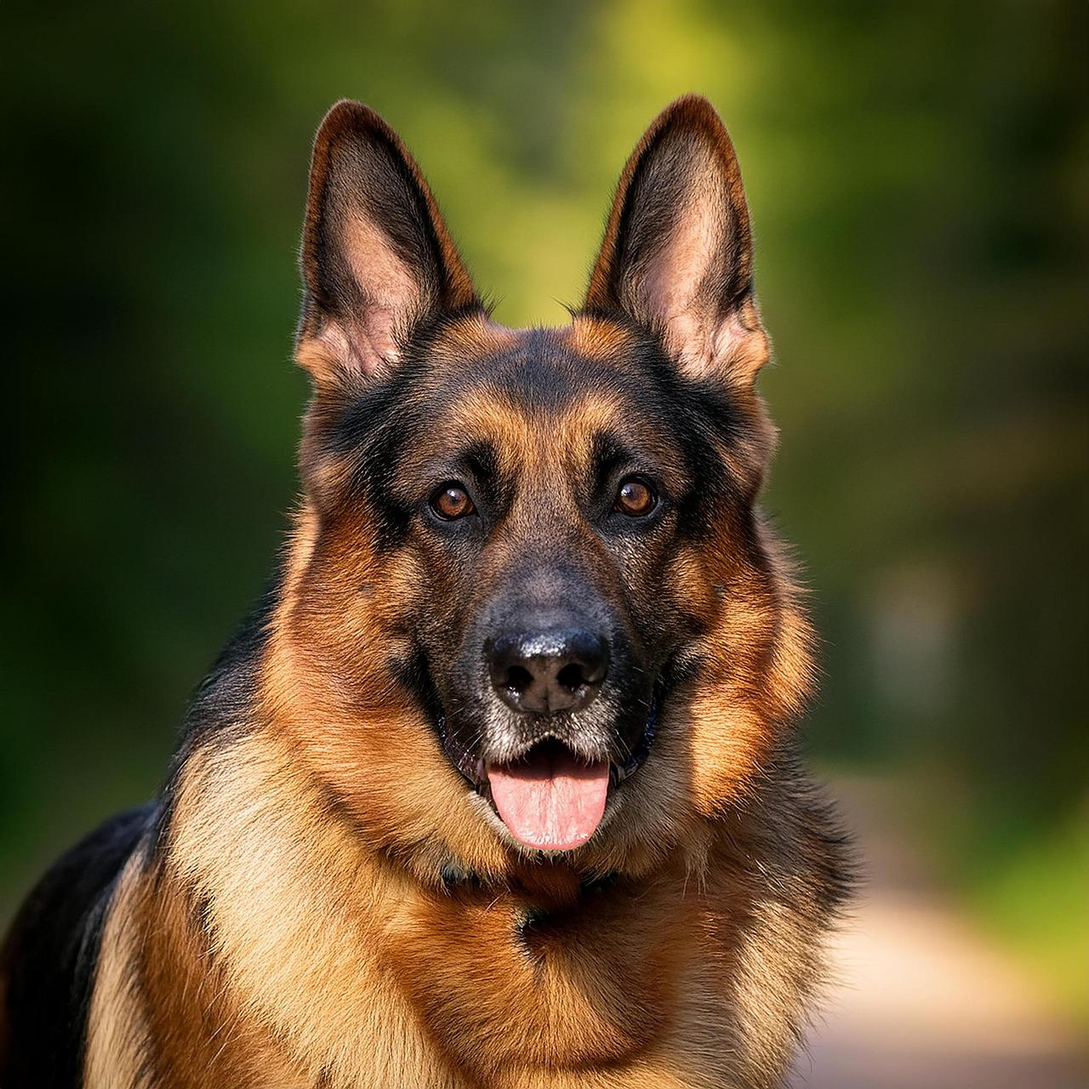german_shepherd: (257, 126, 844, 903)
